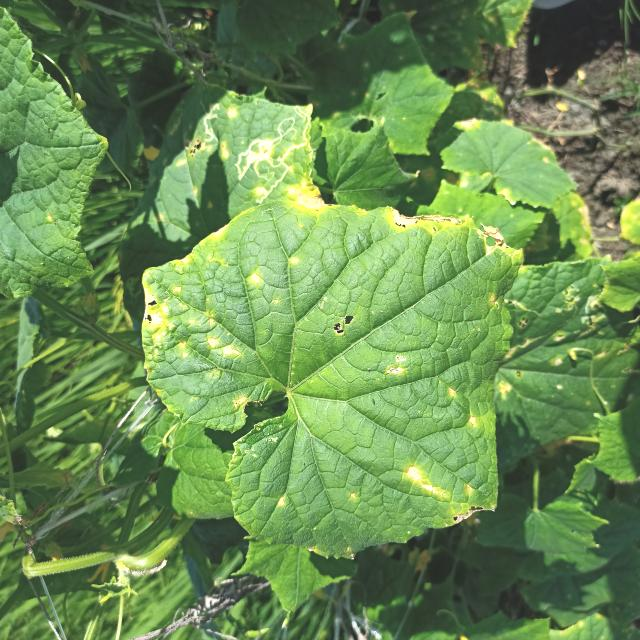disease_cucumber: (139, 286, 241, 366), (387, 203, 464, 238), (399, 458, 451, 500), (387, 352, 409, 376), (248, 271, 263, 286), (446, 383, 459, 398), (467, 413, 480, 425), (288, 252, 298, 266), (276, 494, 286, 508)
